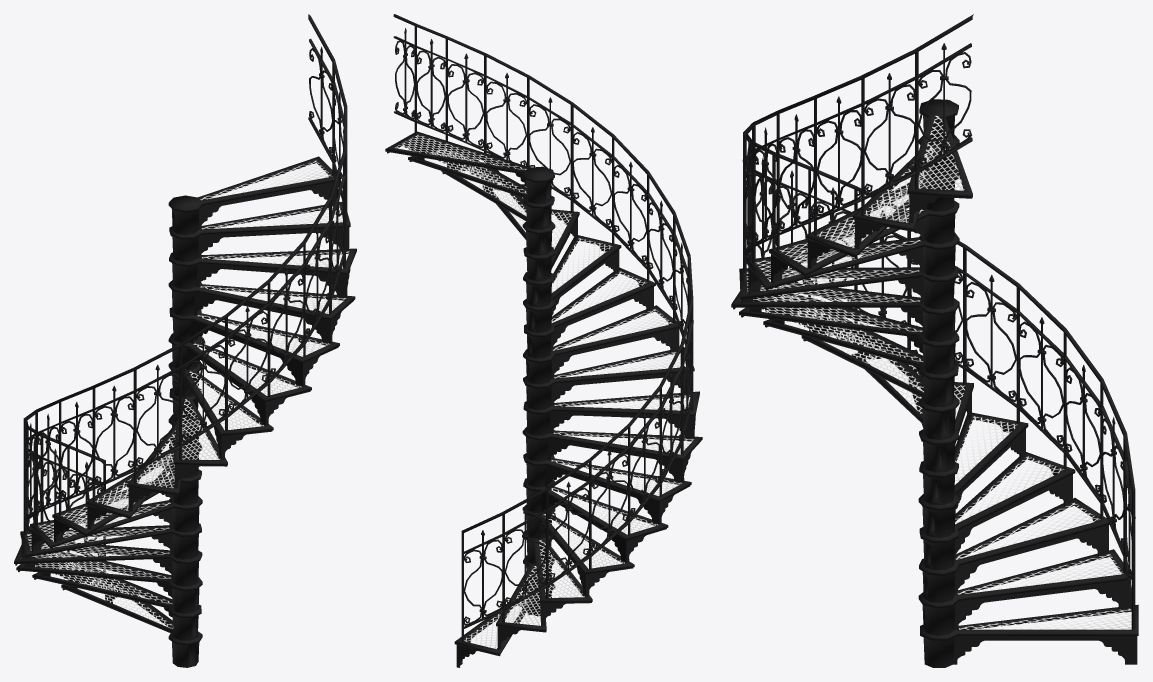
Rendered from round_stairs.glb.
3 renders of one model, left to right at view 1: azimuth 30°, elevation 25°; view 2: azimuth 150°, elevation 25°; view 3: azimuth 270°, elevation 25°, orthographic. The views are drawn at different scales.
Parts seen in each view (by area): view 1: Stairs_h_19,3_rotation_16.4493d.001_0; view 2: Stairs_h_19,3_rotation_16.4493d.001_0; view 3: Stairs_h_19,3_rotation_16.4493d.001_0.
Part boxes in pixels (x1,y1,x2,y2): Stairs_h_19,3_rotation_16.4493d.001_0: (14, 14, 356, 667); Stairs_h_19,3_rotation_16.4493d.001_0: (385, 14, 702, 667); Stairs_h_19,3_rotation_16.4493d.001_0: (731, 14, 1138, 667).
Bounding box in the file's own units: 2.21 × 4.31 × 2.18.
Materials: 2 (1 with a texture image).
